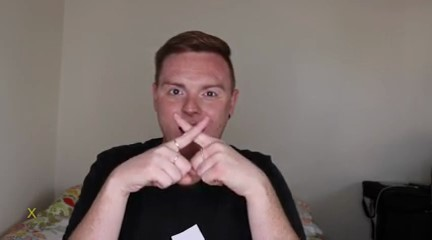X: (125, 109, 265, 195)
